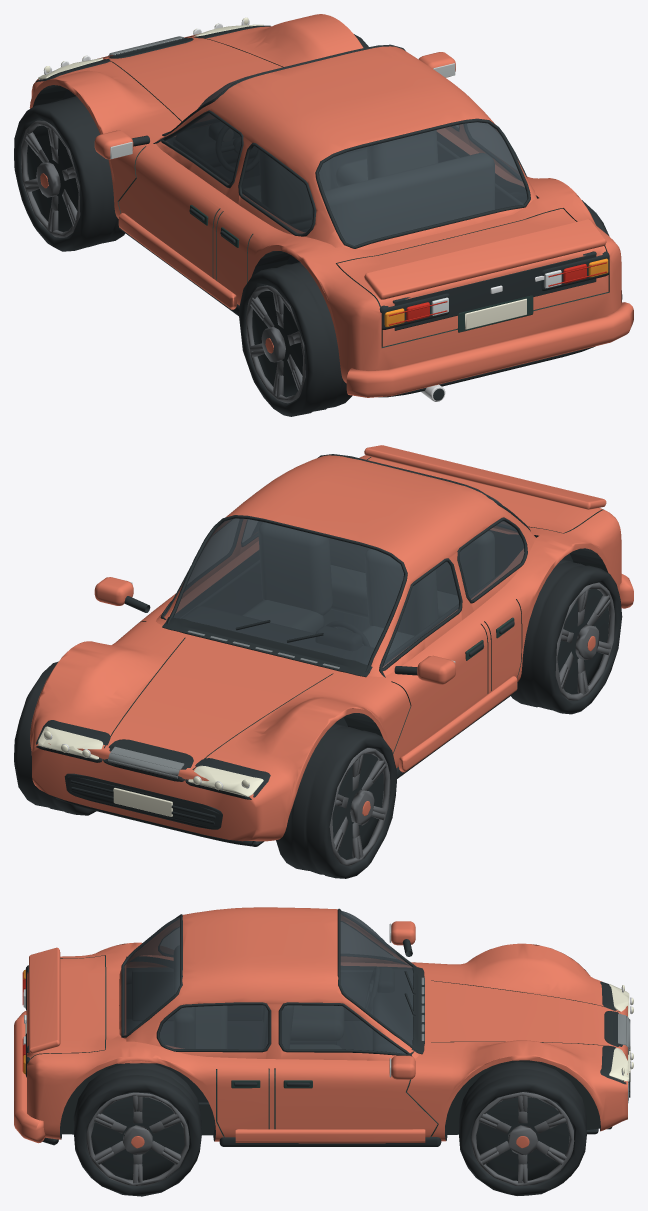
Rendered from kage_lod2.fbx.
The picture shows the model from 3 angles, top to bottom: view 1: azimuth 30°, elevation 25°; view 2: azimuth 150°, elevation 25°; view 3: azimuth 270°, elevation 25°; orthographic projection. The views are drawn at different scales.
Parts seen in each view (by area): view 1: Body, Wheel_RL_Mesh, Wheel_FL_Mesh; view 2: Body, Wheel_FL_Mesh, Wheel_RL_Mesh, Wheel_FR_Mesh; view 3: Body, Wheel_FR_Mesh, Wheel_RR_Mesh.
Part boxes in pixels (x1,y1,x2,y2): Body: (29,14,633,401); Wheel_RL_Mesh: (239,262,352,416); Wheel_FL_Mesh: (14,96,125,251); Body: (30,445,633,846); Wheel_FL_Mesh: (276,723,396,878); Wheel_RL_Mesh: (511,559,622,714); Wheel_FR_Mesh: (14,661,96,815); Body: (14,907,633,1146); Wheel_FR_Mesh: (458,1061,586,1195); Wheel_RR_Mesh: (73,1063,201,1196).
Size of the model in its own units: 238 by 148 by 425.
